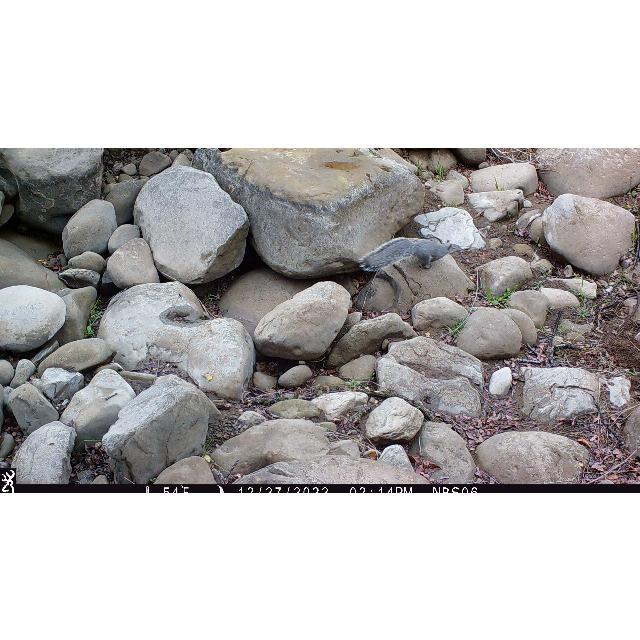animals: (359, 236, 461, 272)
